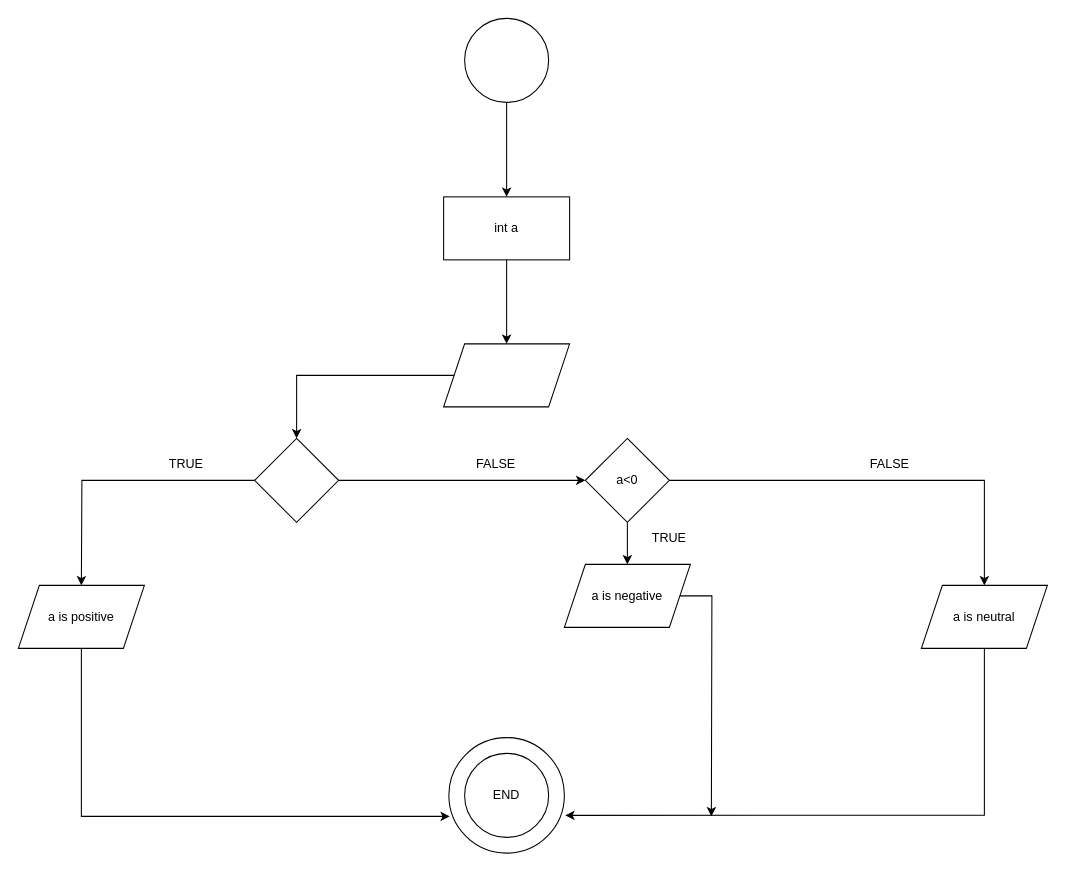
Some shapes in this 1066 by 871 pixel diagram are drawn without their labels. The centre of each missing label's shape, as x and y in pixels:
a>0: [296,479]
Read variable a: [506,375]
START: [506,59]
